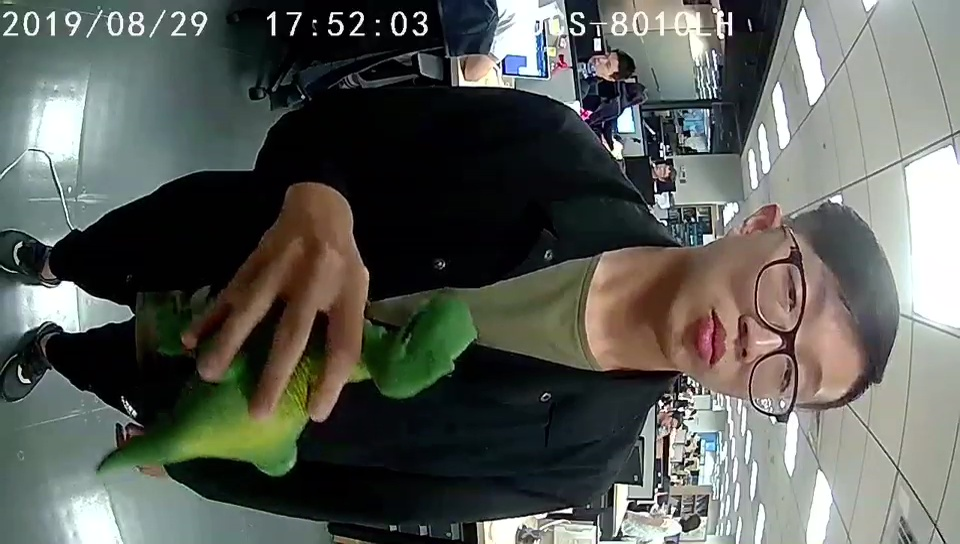rex: (166, 287, 475, 478)
